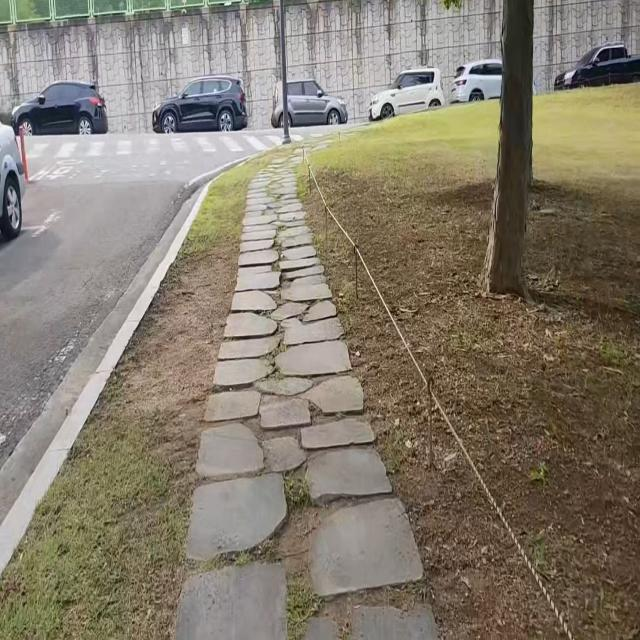obstacle: (141, 70, 253, 139), (8, 74, 112, 141), (0, 96, 34, 255)
road: (0, 129, 329, 527)
